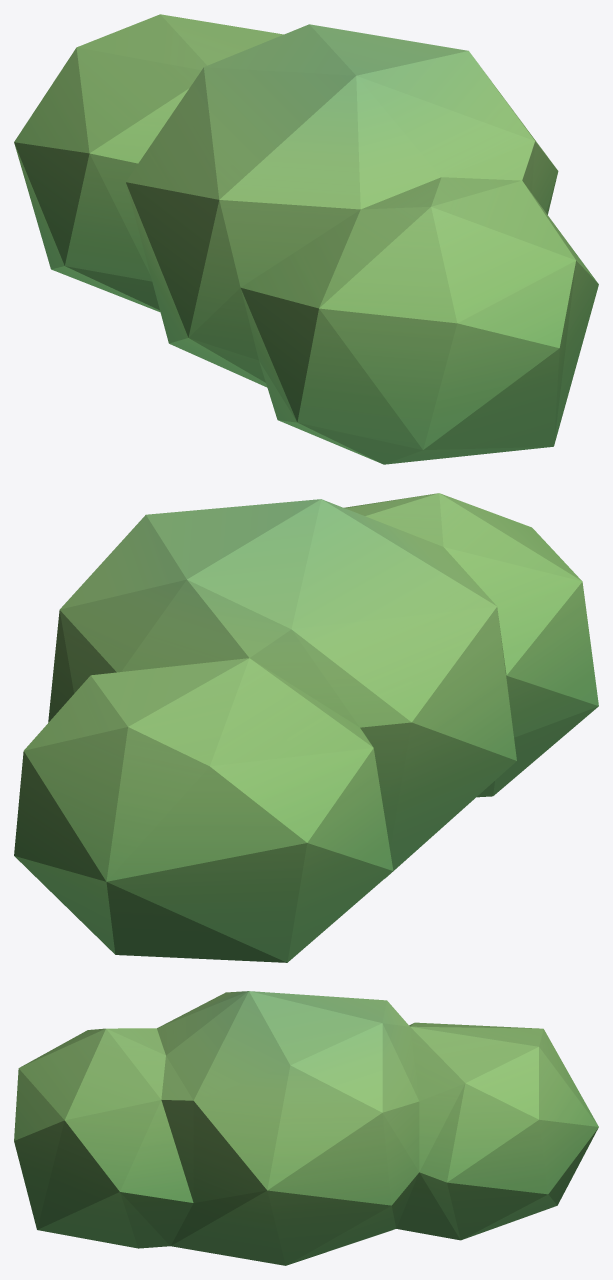
Rendered from bush1.glb.
3 views of the same model, one above another, from view 1: azimuth 30°, elevation 25°; view 2: azimuth 150°, elevation 25°; view 3: azimuth 270°, elevation 25° (orthographic). The views are drawn at different scales.
Visible parts, largest first — view 1: Bush; view 2: Bush; view 3: Bush.
Part boxes in pixels (x1=…): Bush: x1=14, y1=14, x2=598, y2=464; Bush: x1=14, y1=493, x2=598, y2=962; Bush: x1=14, y1=991, x2=598, y2=1265.
Bounding box in the file's own units: 4.5 × 3.1 × 7.56.
Materials: 1 (1 with a texture image).
